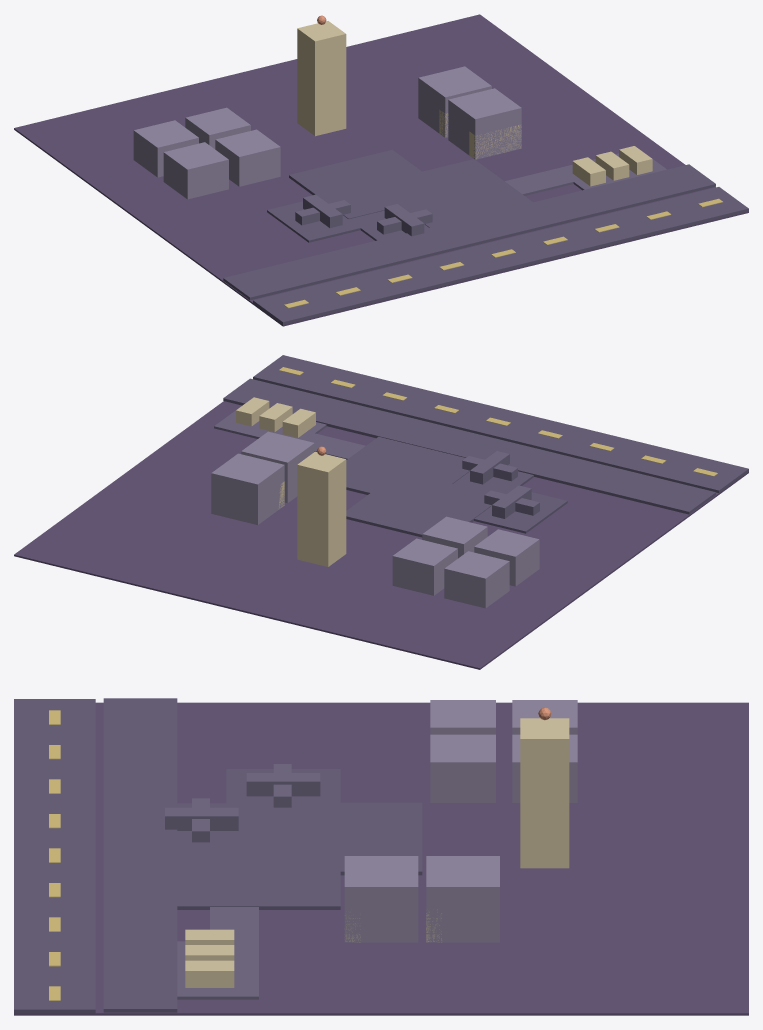
Rendered from stage_14.glb.
3 renders of one model, top to bottom at view 1: azimuth 30°, elevation 25°; view 2: azimuth 150°, elevation 25°; view 3: azimuth 270°, elevation 25°, orthographic. The views are drawn at different scales.
Parts seen in each view (by area): view 1: geometry_0; view 2: geometry_0; view 3: geometry_0.
Part boxes in pixels (left/top/right/bottom): geometry_0: left=14, top=14, right=748, bottom=326; geometry_0: left=14, top=355, right=748, bottom=669; geometry_0: left=14, top=698, right=748, bottom=1015.
Size of the model in its own units: 9 by 2.06 by 9.
